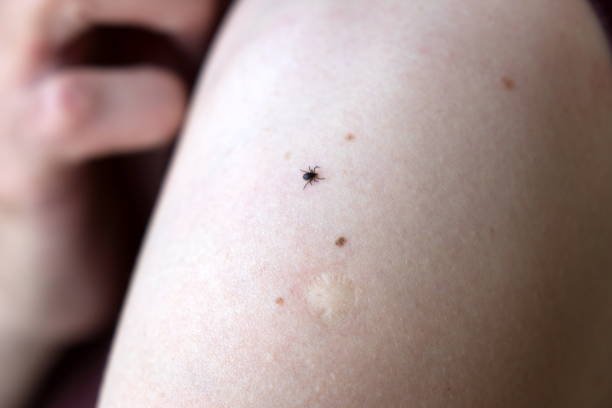unlabelled_tick: (295, 161, 328, 189)
